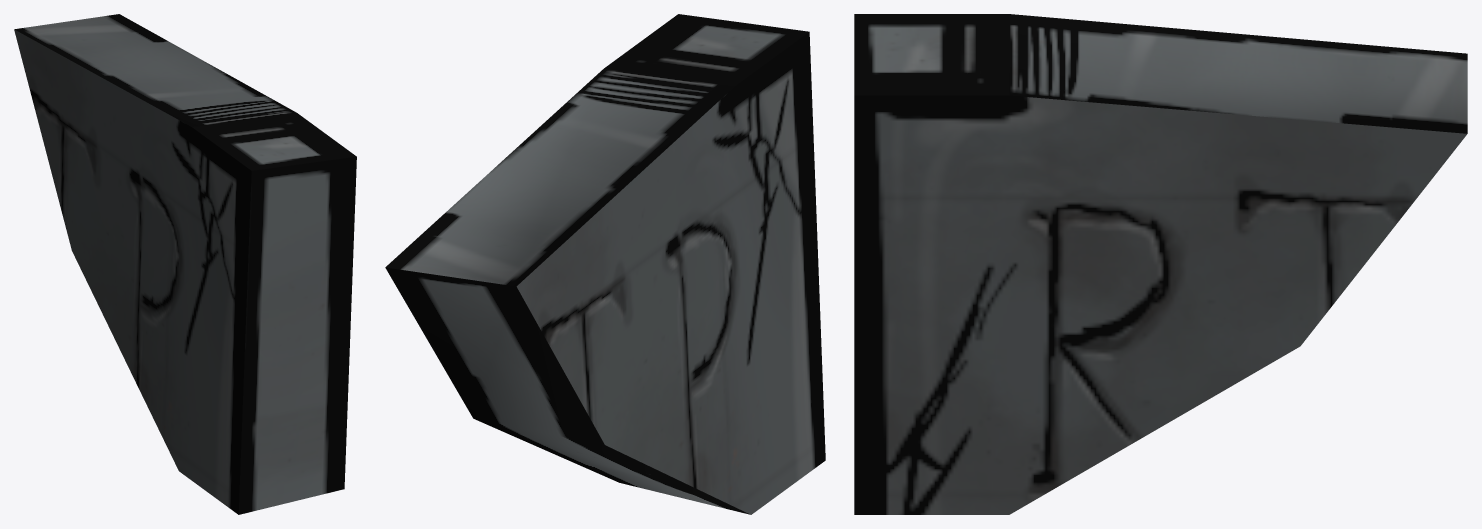
The model's file is tombstone_05_gib4.fbx.
3 views of the same model, side by side, from view 1: azimuth 30°, elevation 25°; view 2: azimuth 150°, elevation 25°; view 3: azimuth 270°, elevation 25° (orthographic). The views are drawn at different scales.
Parts seen in each view (by area): view 1: tombstone_05_gib4; view 2: tombstone_05_gib4; view 3: tombstone_05_gib4.
Boxes of the visible parts, bbox=[...] form: tombstone_05_gib4: bbox=[14, 14, 356, 514]; tombstone_05_gib4: bbox=[385, 14, 825, 514]; tombstone_05_gib4: bbox=[854, 14, 1467, 514].
Size of the model in its own units: 1.12 by 3.08 by 3.87.
